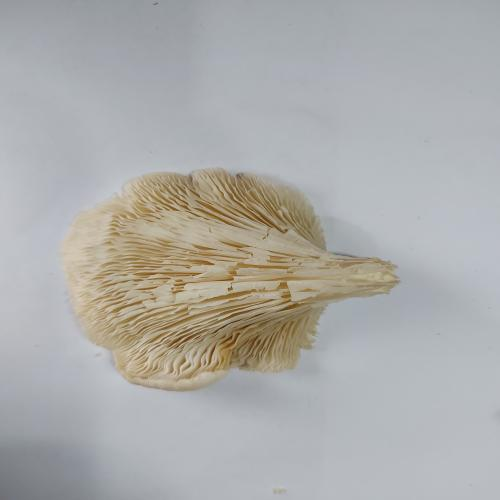Oyster Mushroom: (60, 166, 401, 392)
